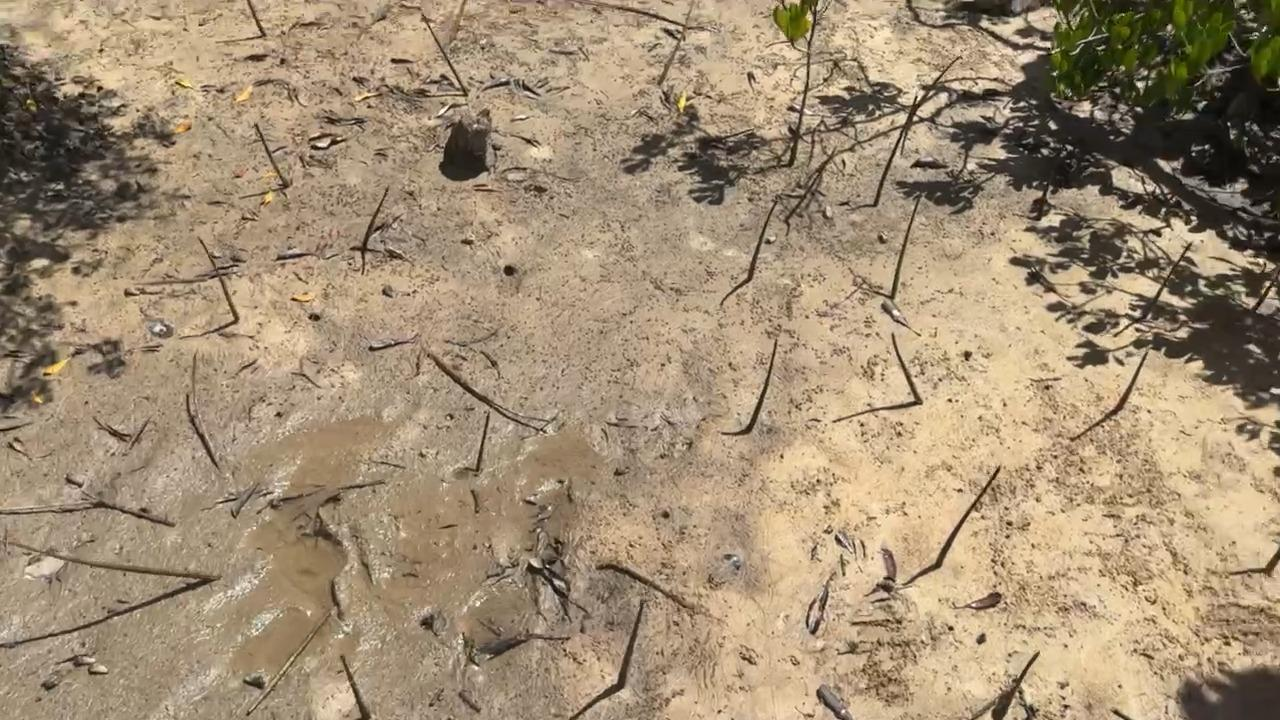Tree: (1, 538, 221, 583), (770, 0, 820, 168), (934, 465, 1001, 566), (899, 55, 964, 155), (872, 94, 918, 205), (421, 13, 468, 96), (196, 235, 240, 321), (1142, 241, 1193, 315), (990, 650, 1042, 720), (190, 351, 219, 460), (890, 197, 920, 299), (656, 4, 692, 85), (748, 336, 778, 431), (616, 598, 647, 689), (747, 200, 778, 279), (891, 330, 924, 403), (253, 123, 290, 188), (1110, 352, 1147, 414), (339, 652, 371, 720), (362, 186, 390, 249), (1249, 268, 1280, 314), (475, 409, 491, 473), (247, 0, 265, 37), (1265, 549, 1280, 575)
